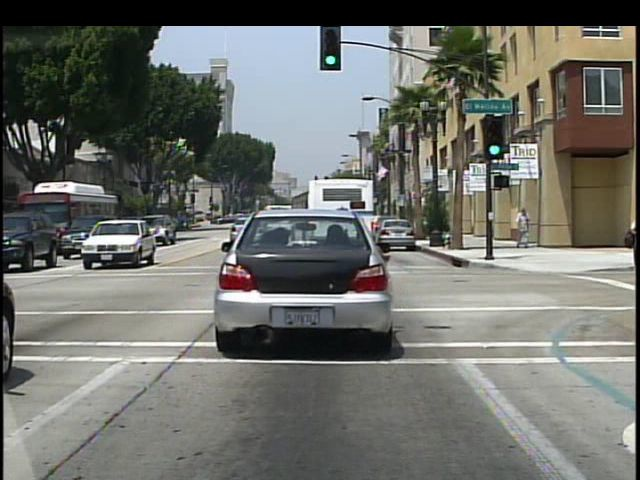person: (514, 205, 533, 249), (624, 220, 637, 256)
